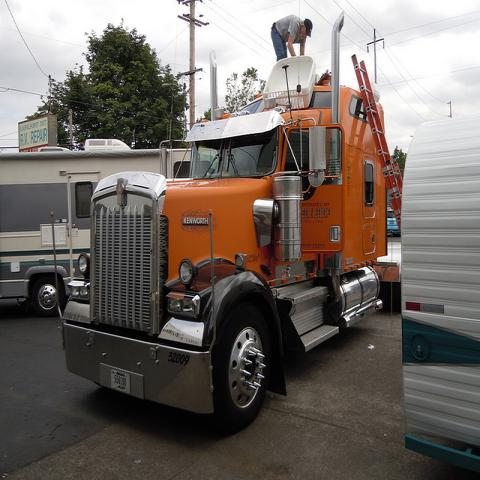truck: (58, 14, 405, 432), (0, 136, 190, 316)
